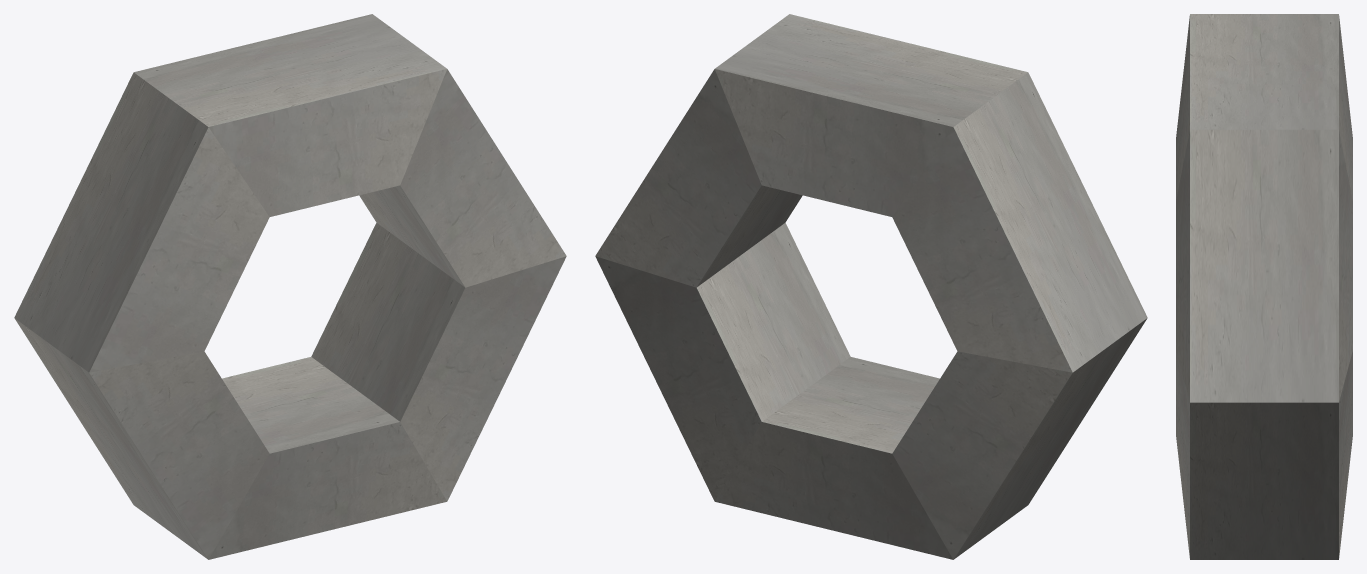
The model's file is nut.fbx.
3 renders of one model, left to right at view 1: azimuth 30°, elevation 25°; view 2: azimuth 150°, elevation 25°; view 3: azimuth 270°, elevation 25°, orthographic.
Parts seen in each view (by area): view 1: Cylinder; view 2: Cylinder; view 3: Cylinder.
Boxes of the visible parts, x1,y1,x2,y2 form: Cylinder: (14, 14, 566, 559); Cylinder: (595, 14, 1147, 559); Cylinder: (1176, 14, 1352, 559).
Size of the model in its own units: 200 by 173 by 64.54.
